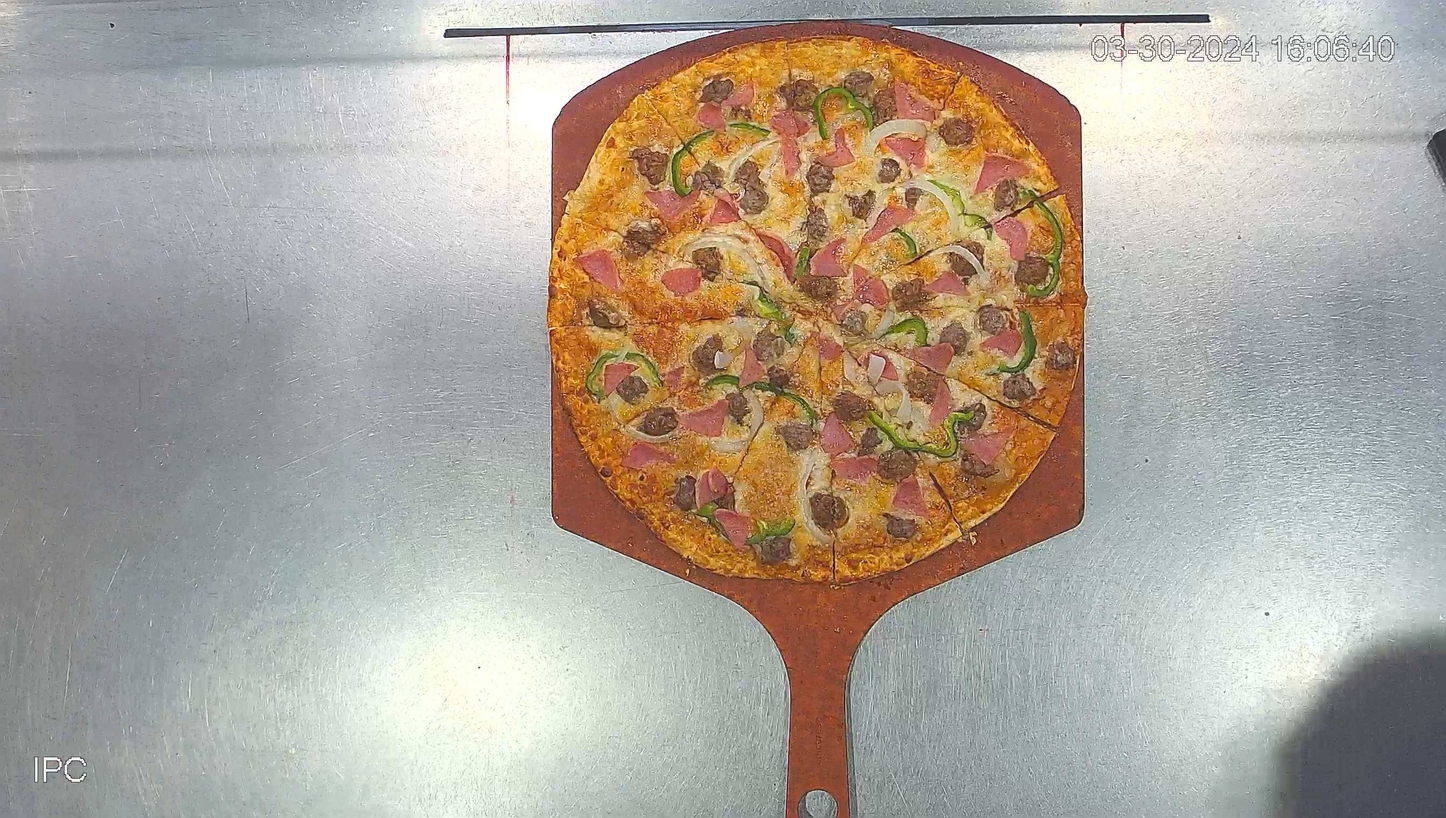hawaiian: (545, 33, 1085, 585)
